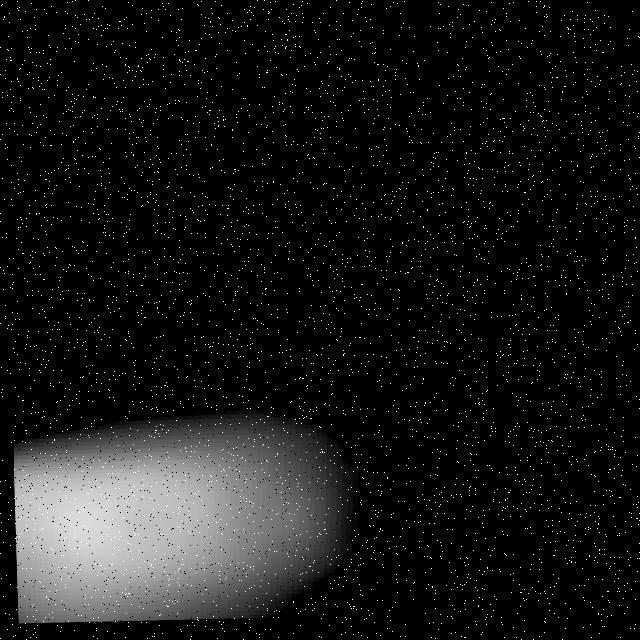person: (10, 354, 396, 640)
